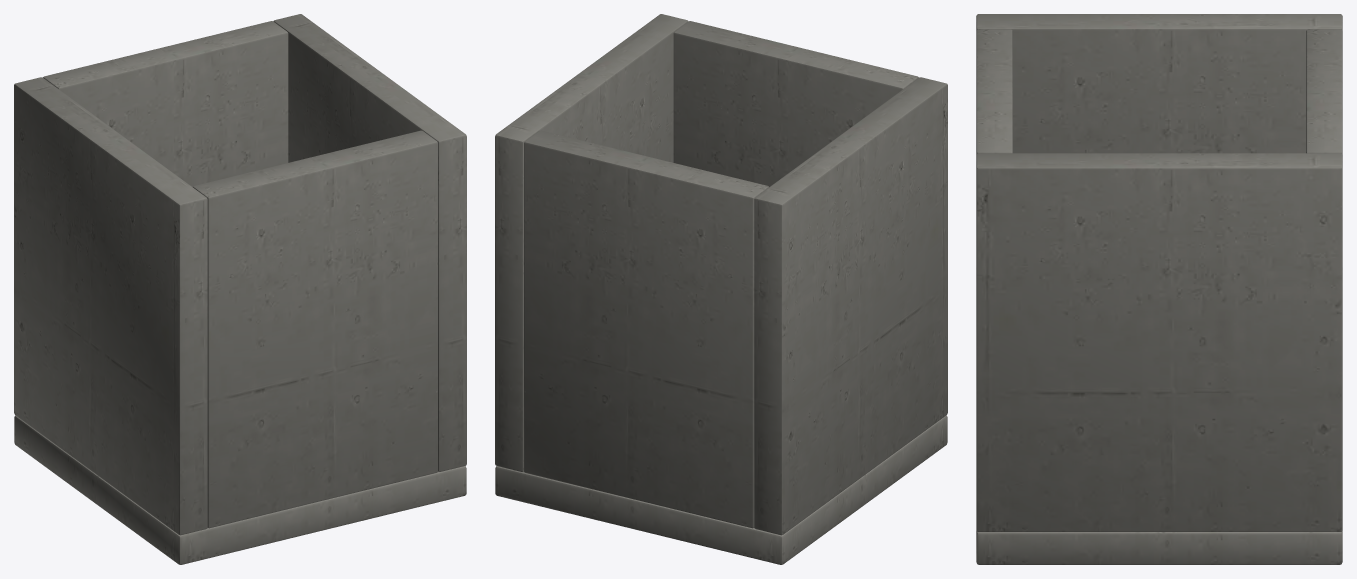
Rendered from HID-CXS-004_anim.glb.
3 renders of one model, left to right at view 1: azimuth 30°, elevation 25°; view 2: azimuth 150°, elevation 25°; view 3: azimuth 270°, elevation 25°, orthographic. The views are drawn at different scales.
Visible parts, largest first — view 1: HID-CXS-004_anim0; view 2: HID-CXS-004_anim0; view 3: HID-CXS-004_anim0.
Part boxes in pixels (left/top/right/bottom): HID-CXS-004_anim0: left=14, top=14, right=466, bottom=564; HID-CXS-004_anim0: left=495, top=14, right=947, bottom=564; HID-CXS-004_anim0: left=976, top=14, right=1342, bottom=564.
Bounding box in the file's own units: 0.5 × 0.6001 × 0.5.
Materials: 4 (3 with a texture image).
